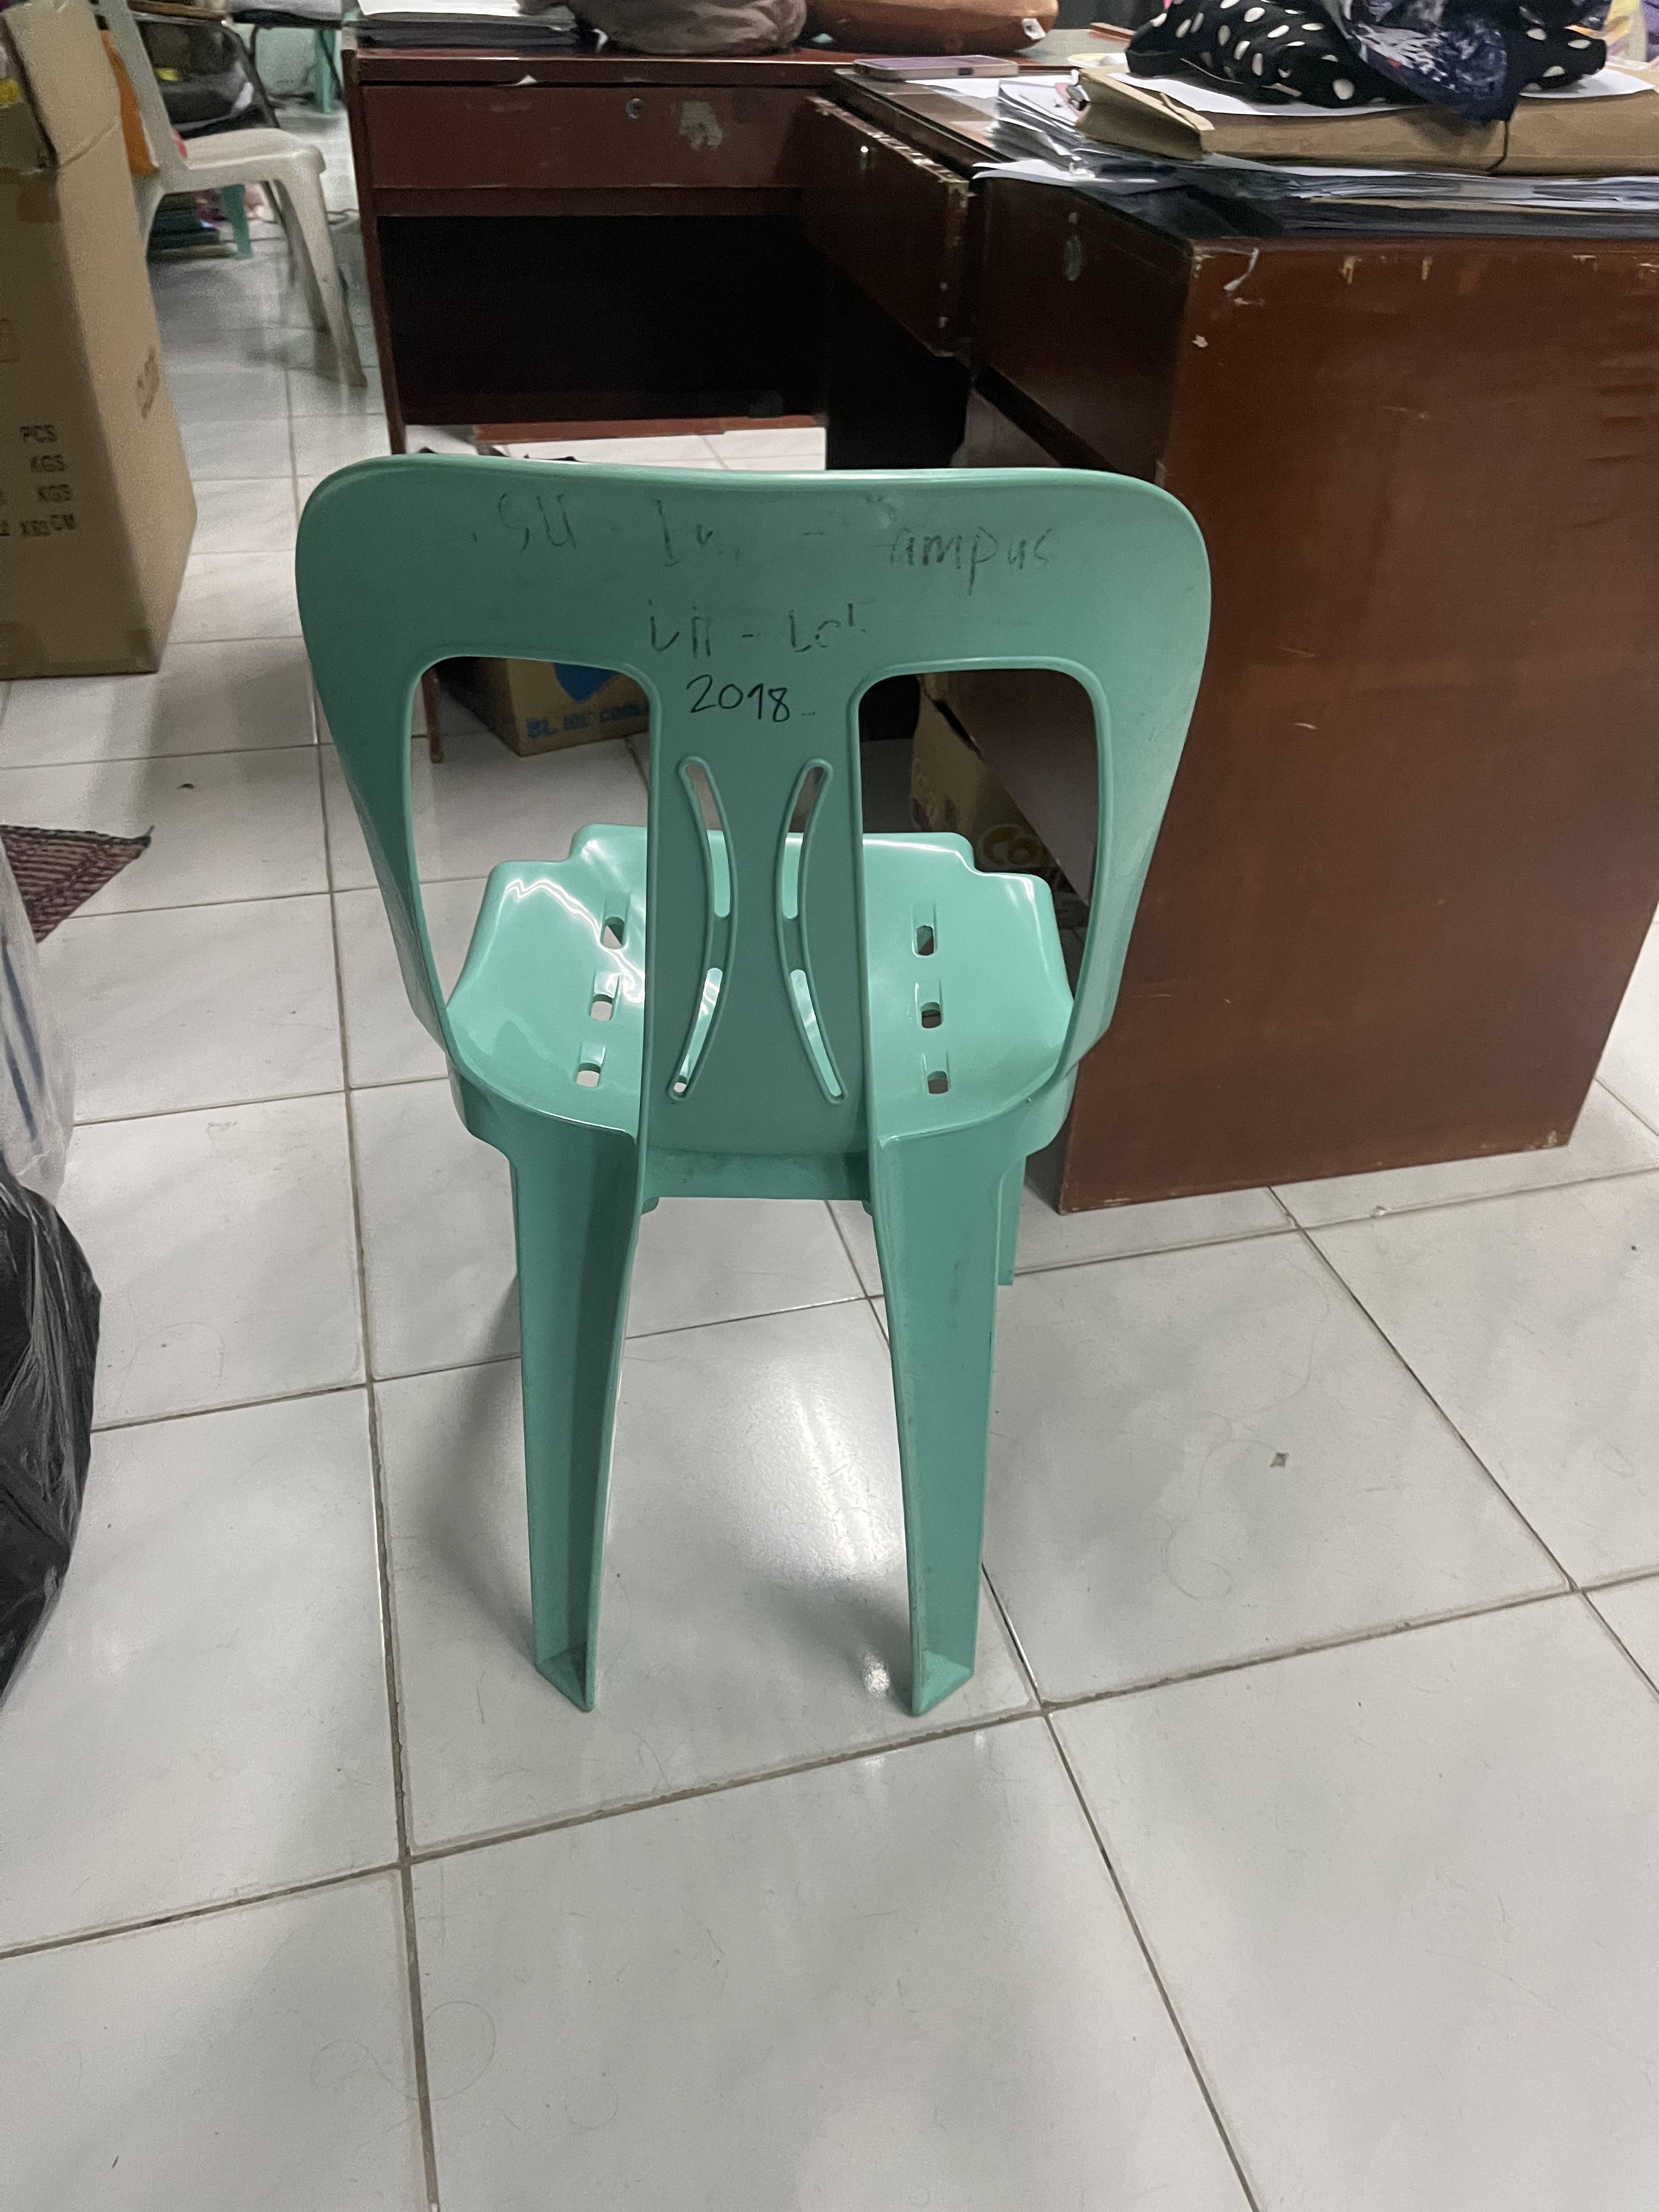chair2: (282, 449, 1223, 1749)
